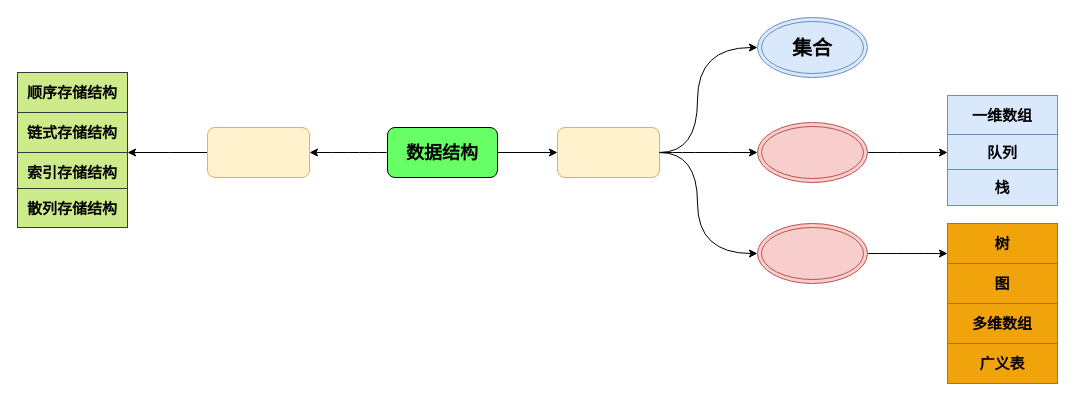
Some shapes in this 1075 by 401 pixel diagram are drawn without their labels. Here are the shapes that lost their labels. From the top down, the centre of each, then its label:
At [258,152]: "存储结构".
At [608,152]: "逻辑结构".
At [812,152]: "线性结构".
At [812,253]: "非线性结构".
